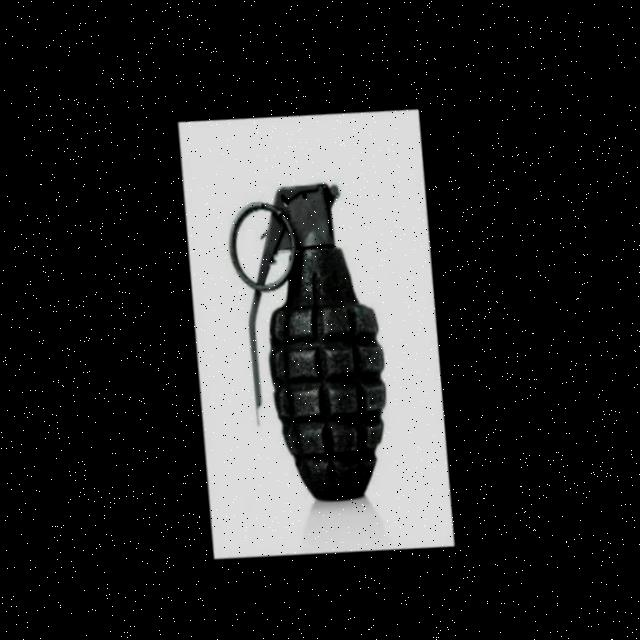grenade: (177, 127, 441, 539)
